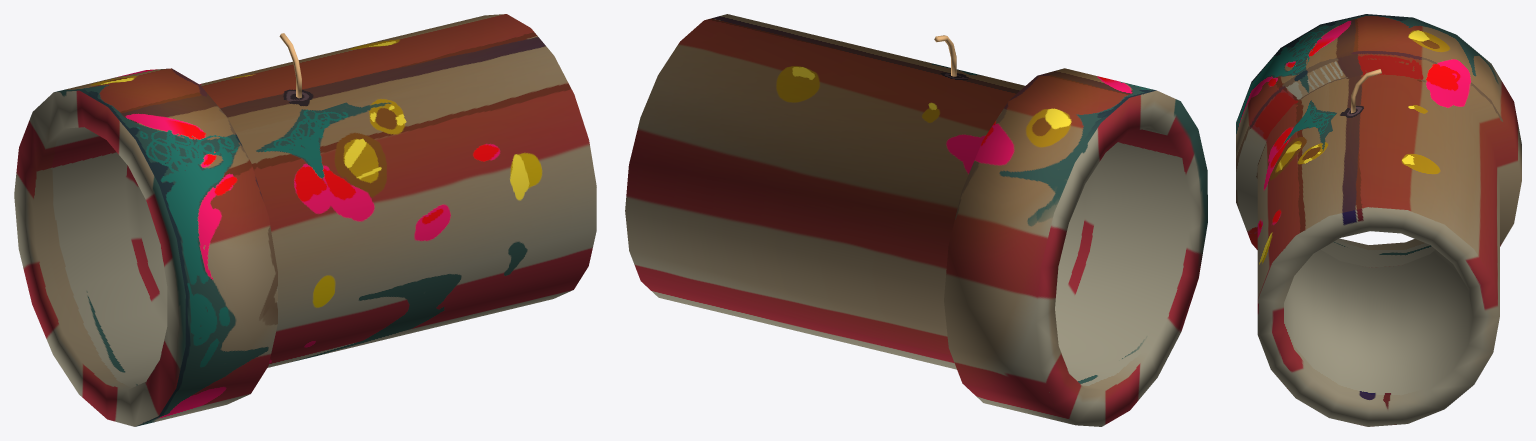
Rendered from Canon.fbx.
3 views of the same model, side by side, from view 1: azimuth 30°, elevation 25°; view 2: azimuth 150°, elevation 25°; view 3: azimuth 270°, elevation 25° (orthographic). The views are drawn at different scales.
Parts seen in each view (by area): view 1: Circle; view 2: Circle; view 3: Circle, Cylinder.
Part boxes in pixels (x1,y1,x2,y2): Circle: [14, 14, 596, 426]; Circle: [625, 14, 1207, 426]; Circle: [1236, 14, 1521, 426]; Cylinder: [1351, 69, 1381, 113].
Bounding box in the file's own units: 429 × 323 × 300.
Materials: 2 (1 with a texture image).
